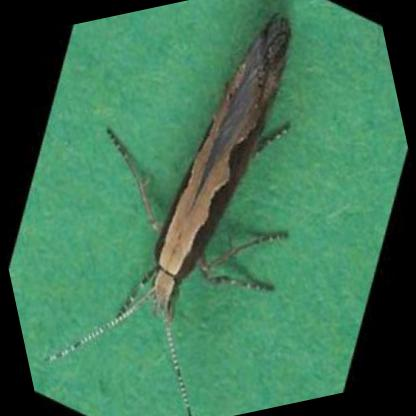plutella: (31, 0, 291, 416)
